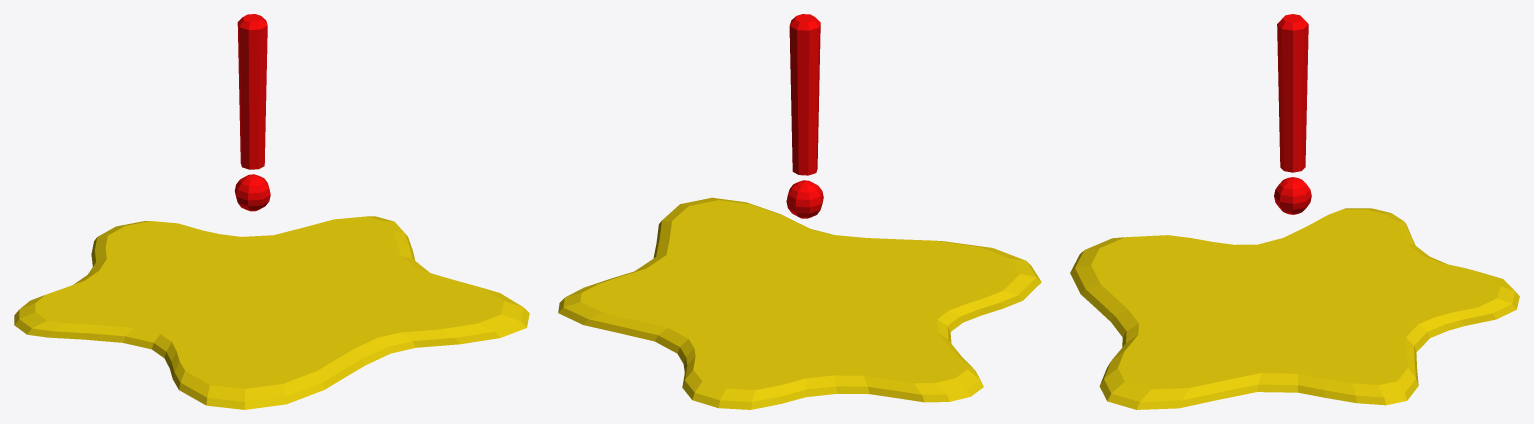
File: Mancha.fbx
The picture shows the model from 3 angles, left to right: view 1: azimuth 30°, elevation 25°; view 2: azimuth 150°, elevation 25°; view 3: azimuth 270°, elevation 25°; orthographic projection. The views are drawn at different scales.
Visible parts, largest first — view 1: Mancha, Alerta; view 2: Mancha, Alerta; view 3: Mancha, Alerta.
Part boxes in pixels (x1,y1,x2,y2): Mancha: (14, 216, 529, 409); Alerta: (234, 14, 270, 211); Mancha: (558, 197, 1041, 409); Alerta: (786, 14, 823, 218); Mancha: (1070, 208, 1519, 409); Alerta: (1274, 14, 1311, 214).
Bounding box in the file's own units: 185 × 128 × 178.
